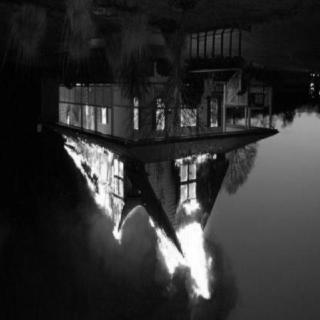Fire: (61, 141, 128, 240), (150, 216, 214, 306), (129, 85, 225, 142), (171, 151, 218, 217), (63, 84, 113, 130)
Smoke: (14, 245, 138, 309)
